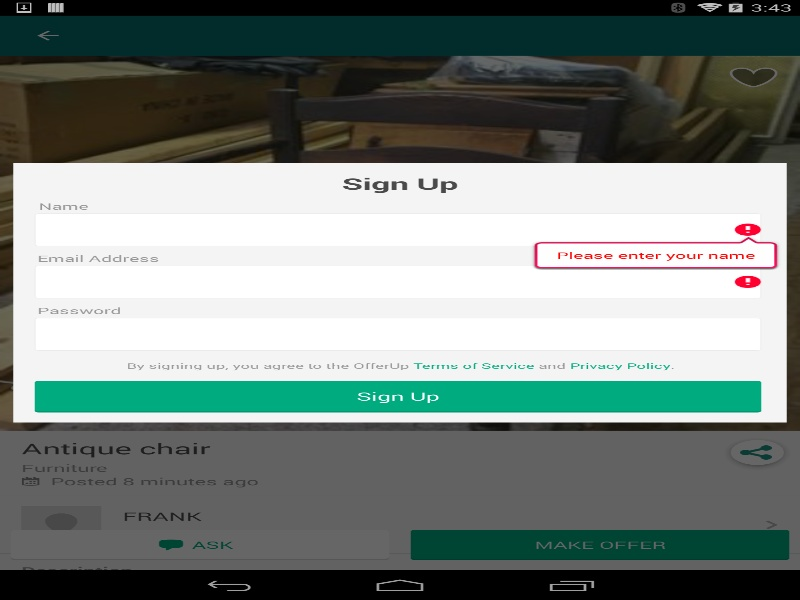Input: (34, 213, 761, 246), (34, 265, 761, 298), (34, 317, 761, 350)
